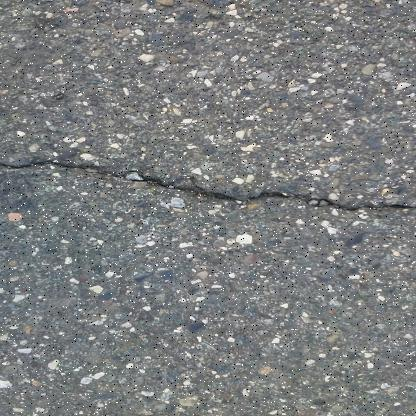Cracks: (0, 150, 416, 219)
